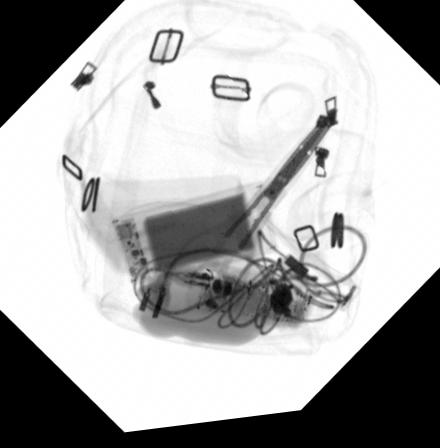Powerbank: (112, 185, 278, 291)
Scissors: (168, 118, 337, 306)
